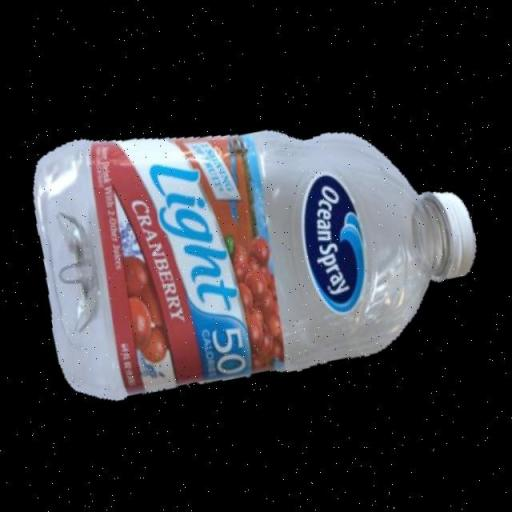plastic: (12, 68, 494, 422)
